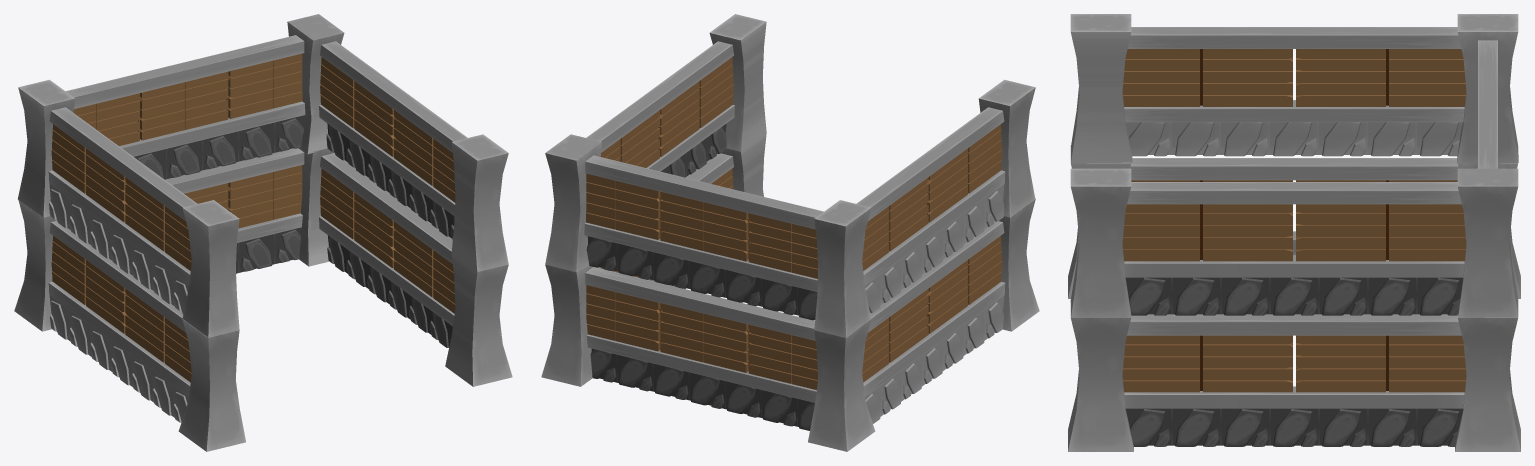
The model's file is Trasero_y_lateral.obj.
The picture shows the model from 3 angles, left to right: view 1: azimuth 30°, elevation 25°; view 2: azimuth 150°, elevation 25°; view 3: azimuth 270°, elevation 25°; orthographic projection. The views are drawn at different scales.
Parts seen in each view (by area): view 1: group pasted__pCube339, group pasted__pCube320, group pasted__pCube9, pCube4, pCube316, group pasted__pCube369, group pasted__pCube289, group pasted__pCube45, pCube323, group pasted__pCube312, pCube346, group pasted__pCube304 (+19 smaller); view 2: pCube316, pCube43, pCube323, pCube15, group pasted__pCube304, group pasted__pCube369, group pasted__pCube339, group pasted__pCube22, group pasted__pCube289, group pasted__pCube14, group pasted__pCube45, group pasted__pCube320 (+25 smaller); view 3: pCube305, pCube44, group pasted__pCube289, group pasted__pCube320, group pasted__pCube304, group pasted__pCube339, pCube346, group pasted__pCube17, group pasted__pCube312, group pasted__pCube14, group pasted__pCube9, pCube19 (+67 smaller).
Boxes of the visible parts, box(x1,y1,x2,y2) form: group pasted__pCube339: box(451, 134, 508, 272); group pasted__pCube320: box(182, 200, 239, 337); group pasted__pCube9: box(445, 254, 512, 386); pCube4: box(178, 319, 245, 451); pCube316: box(134, 115, 304, 179); group pasted__pCube369: box(66, 35, 304, 108); group pasted__pCube289: box(49, 184, 188, 314); group pasted__pCube45: box(49, 295, 188, 422); pCube323: box(18, 79, 75, 217); group pasted__pCube312: box(49, 107, 197, 220); pCube346: box(320, 41, 467, 152); group pasted__pCube304: box(287, 14, 344, 154); pCube316: box(586, 236, 817, 320); pCube43: box(590, 348, 814, 430); pCube323: box(814, 200, 871, 337); pCube15: box(808, 319, 875, 451); group pasted__pCube304: box(545, 134, 602, 272); group pasted__pCube369: box(585, 155, 823, 229); group pasted__pCube339: box(709, 14, 766, 151); group pasted__pCube22: box(585, 267, 815, 340); group pasted__pCube289: box(865, 184, 1004, 312); group pasted__pCube14: box(541, 264, 600, 386); group pasted__pCube45: box(865, 295, 1004, 423); group pasted__pCube320: box(978, 79, 1035, 217); pCube305: box(1125, 277, 1463, 315); pCube44: box(1125, 408, 1463, 446); group pasted__pCube289: box(1126, 122, 1462, 156); group pasted__pCube320: box(1070, 14, 1132, 163); group pasted__pCube304: box(1457, 168, 1518, 317); group pasted__pCube339: box(1070, 168, 1131, 317); pCube346: box(1127, 182, 1461, 204); group pasted__pCube17: box(1130, 158, 1458, 180); group pasted__pCube312: box(1127, 27, 1461, 48); group pasted__pCube14: box(1455, 315, 1520, 451); group pasted__pCube9: box(1068, 303, 1133, 451); pCube19: box(1127, 314, 1461, 335).
Bounding box in the file's own units: 8.49 × 5.94 × 9.25.
8 materials, 8 textured.
